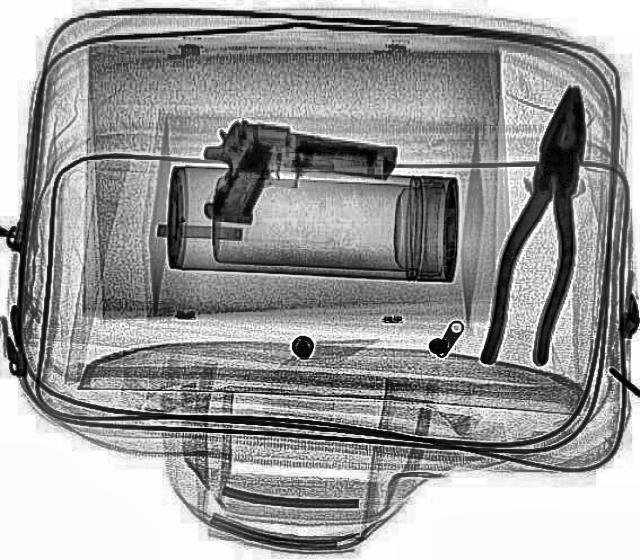Gun: (186, 112, 400, 250)
Pliers: (478, 80, 608, 370)
